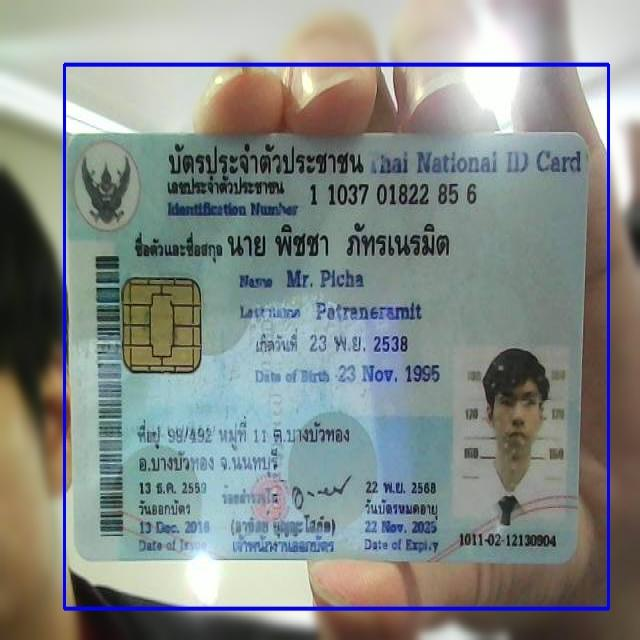Address_th: (132, 411, 362, 484)
Date_of_Birth: (336, 359, 442, 389)
Date_of_Expiry: (360, 516, 442, 540)
Date_of_Issue: (136, 516, 215, 538)
First_Name: (283, 263, 367, 292)
ID_Number: (307, 176, 483, 210)
Image: (456, 345, 567, 523)
Last_Name: (314, 296, 427, 326)
Thai_Name: (222, 216, 456, 262)
